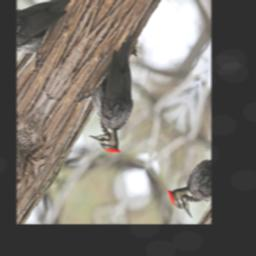Woodpecker: (63, 20, 178, 160)
